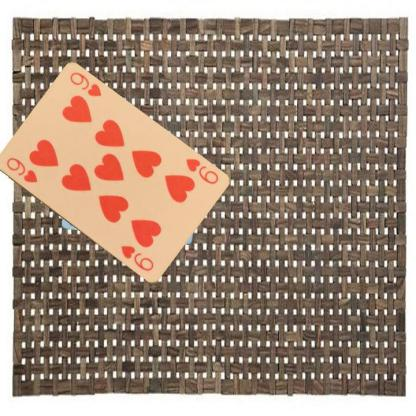9h: (182, 156, 219, 186), (3, 155, 39, 184)
